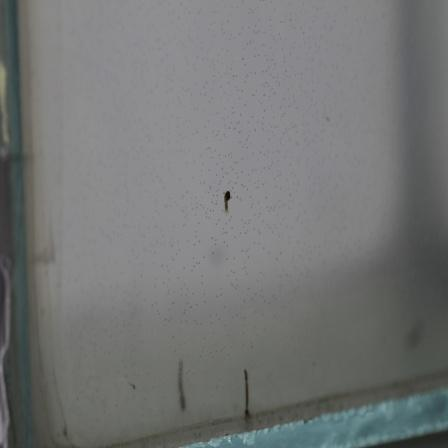Jentik-Nyamuk: (240, 365, 257, 423), (219, 184, 233, 217)
